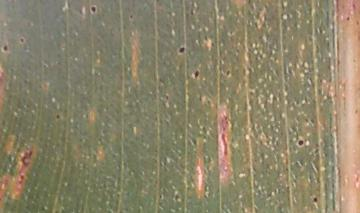tarspot: (292, 135, 307, 149), (221, 64, 235, 78), (189, 65, 201, 80), (175, 42, 187, 55), (86, 2, 97, 16), (309, 192, 320, 205), (1, 40, 12, 52), (16, 34, 27, 44), (54, 111, 61, 120), (126, 11, 133, 19), (345, 14, 351, 23)
